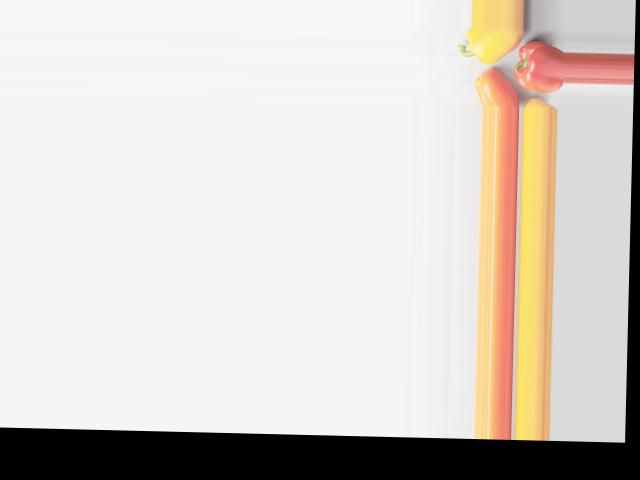bell_pepper: (515, 36, 563, 92)
